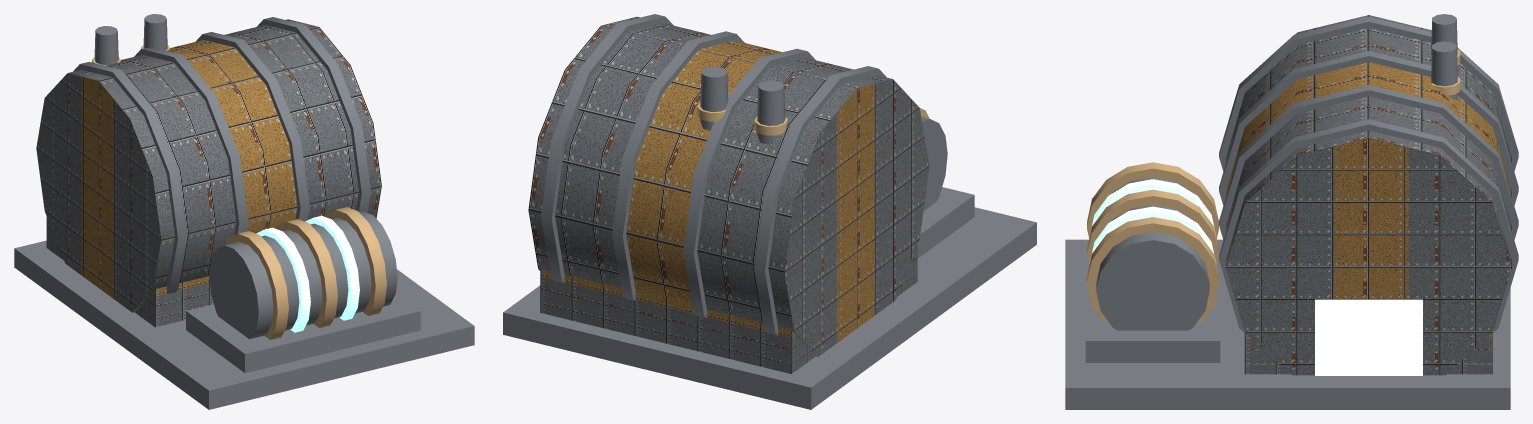
File: ether_generator.glb
3 renders of one model, left to right at view 1: azimuth 30°, elevation 25°; view 2: azimuth 150°, elevation 25°; view 3: azimuth 270°, elevation 25°, orthographic. The views are drawn at different scales.
Visible parts, largest first — view 1: ether_generator; view 2: ether_generator; view 3: ether_generator.
Boxes of the visible parts, x1,y1,x2,y2 form: ether_generator: [14, 14, 474, 409]; ether_generator: [503, 14, 1036, 409]; ether_generator: [1065, 14, 1518, 409].
Size of the model in its own units: 13 by 11.6 by 16.8.
Materials: 5 (1 with a texture image).
